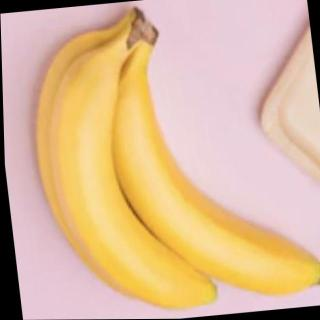banana: (96, 52, 320, 313), (33, 44, 218, 320)
